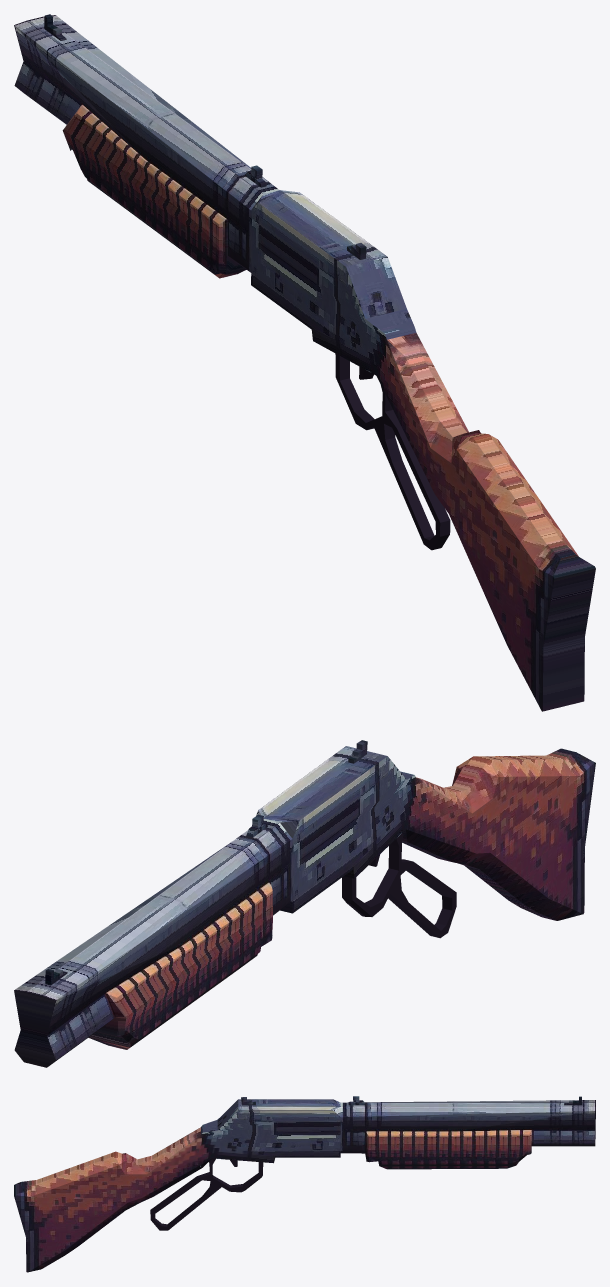
The model's file is shotgun.glb.
3 views of the same model, one above another, from view 1: azimuth 30°, elevation 25°; view 2: azimuth 150°, elevation 25°; view 3: azimuth 270°, elevation 25° (orthographic). The views are drawn at different scales.
Visible parts, largest first — view 1: OIG3 (8), OIG3 (8).002; view 2: OIG3 (8), OIG3 (8).002, OIG3 (8).001; view 3: OIG3 (8), OIG3 (8).002, OIG3 (8).001.
Boxes of the visible parts, bbox=[...] form: OIG3 (8): bbox=[14, 15, 595, 711]; OIG3 (8).002: bbox=[335, 353, 450, 550]; OIG3 (8): bbox=[14, 746, 595, 1067]; OIG3 (8).002: bbox=[342, 833, 456, 938]; OIG3 (8).001: bbox=[45, 740, 367, 985]; OIG3 (8): bbox=[14, 1099, 595, 1272]; OIG3 (8).002: bbox=[150, 1158, 263, 1230]; OIG3 (8).001: bbox=[241, 1096, 582, 1105].
Bounding box in the file's own units: 0.0645 × 0.3068 × 0.9516.
Materials: 1 (1 with a texture image).
